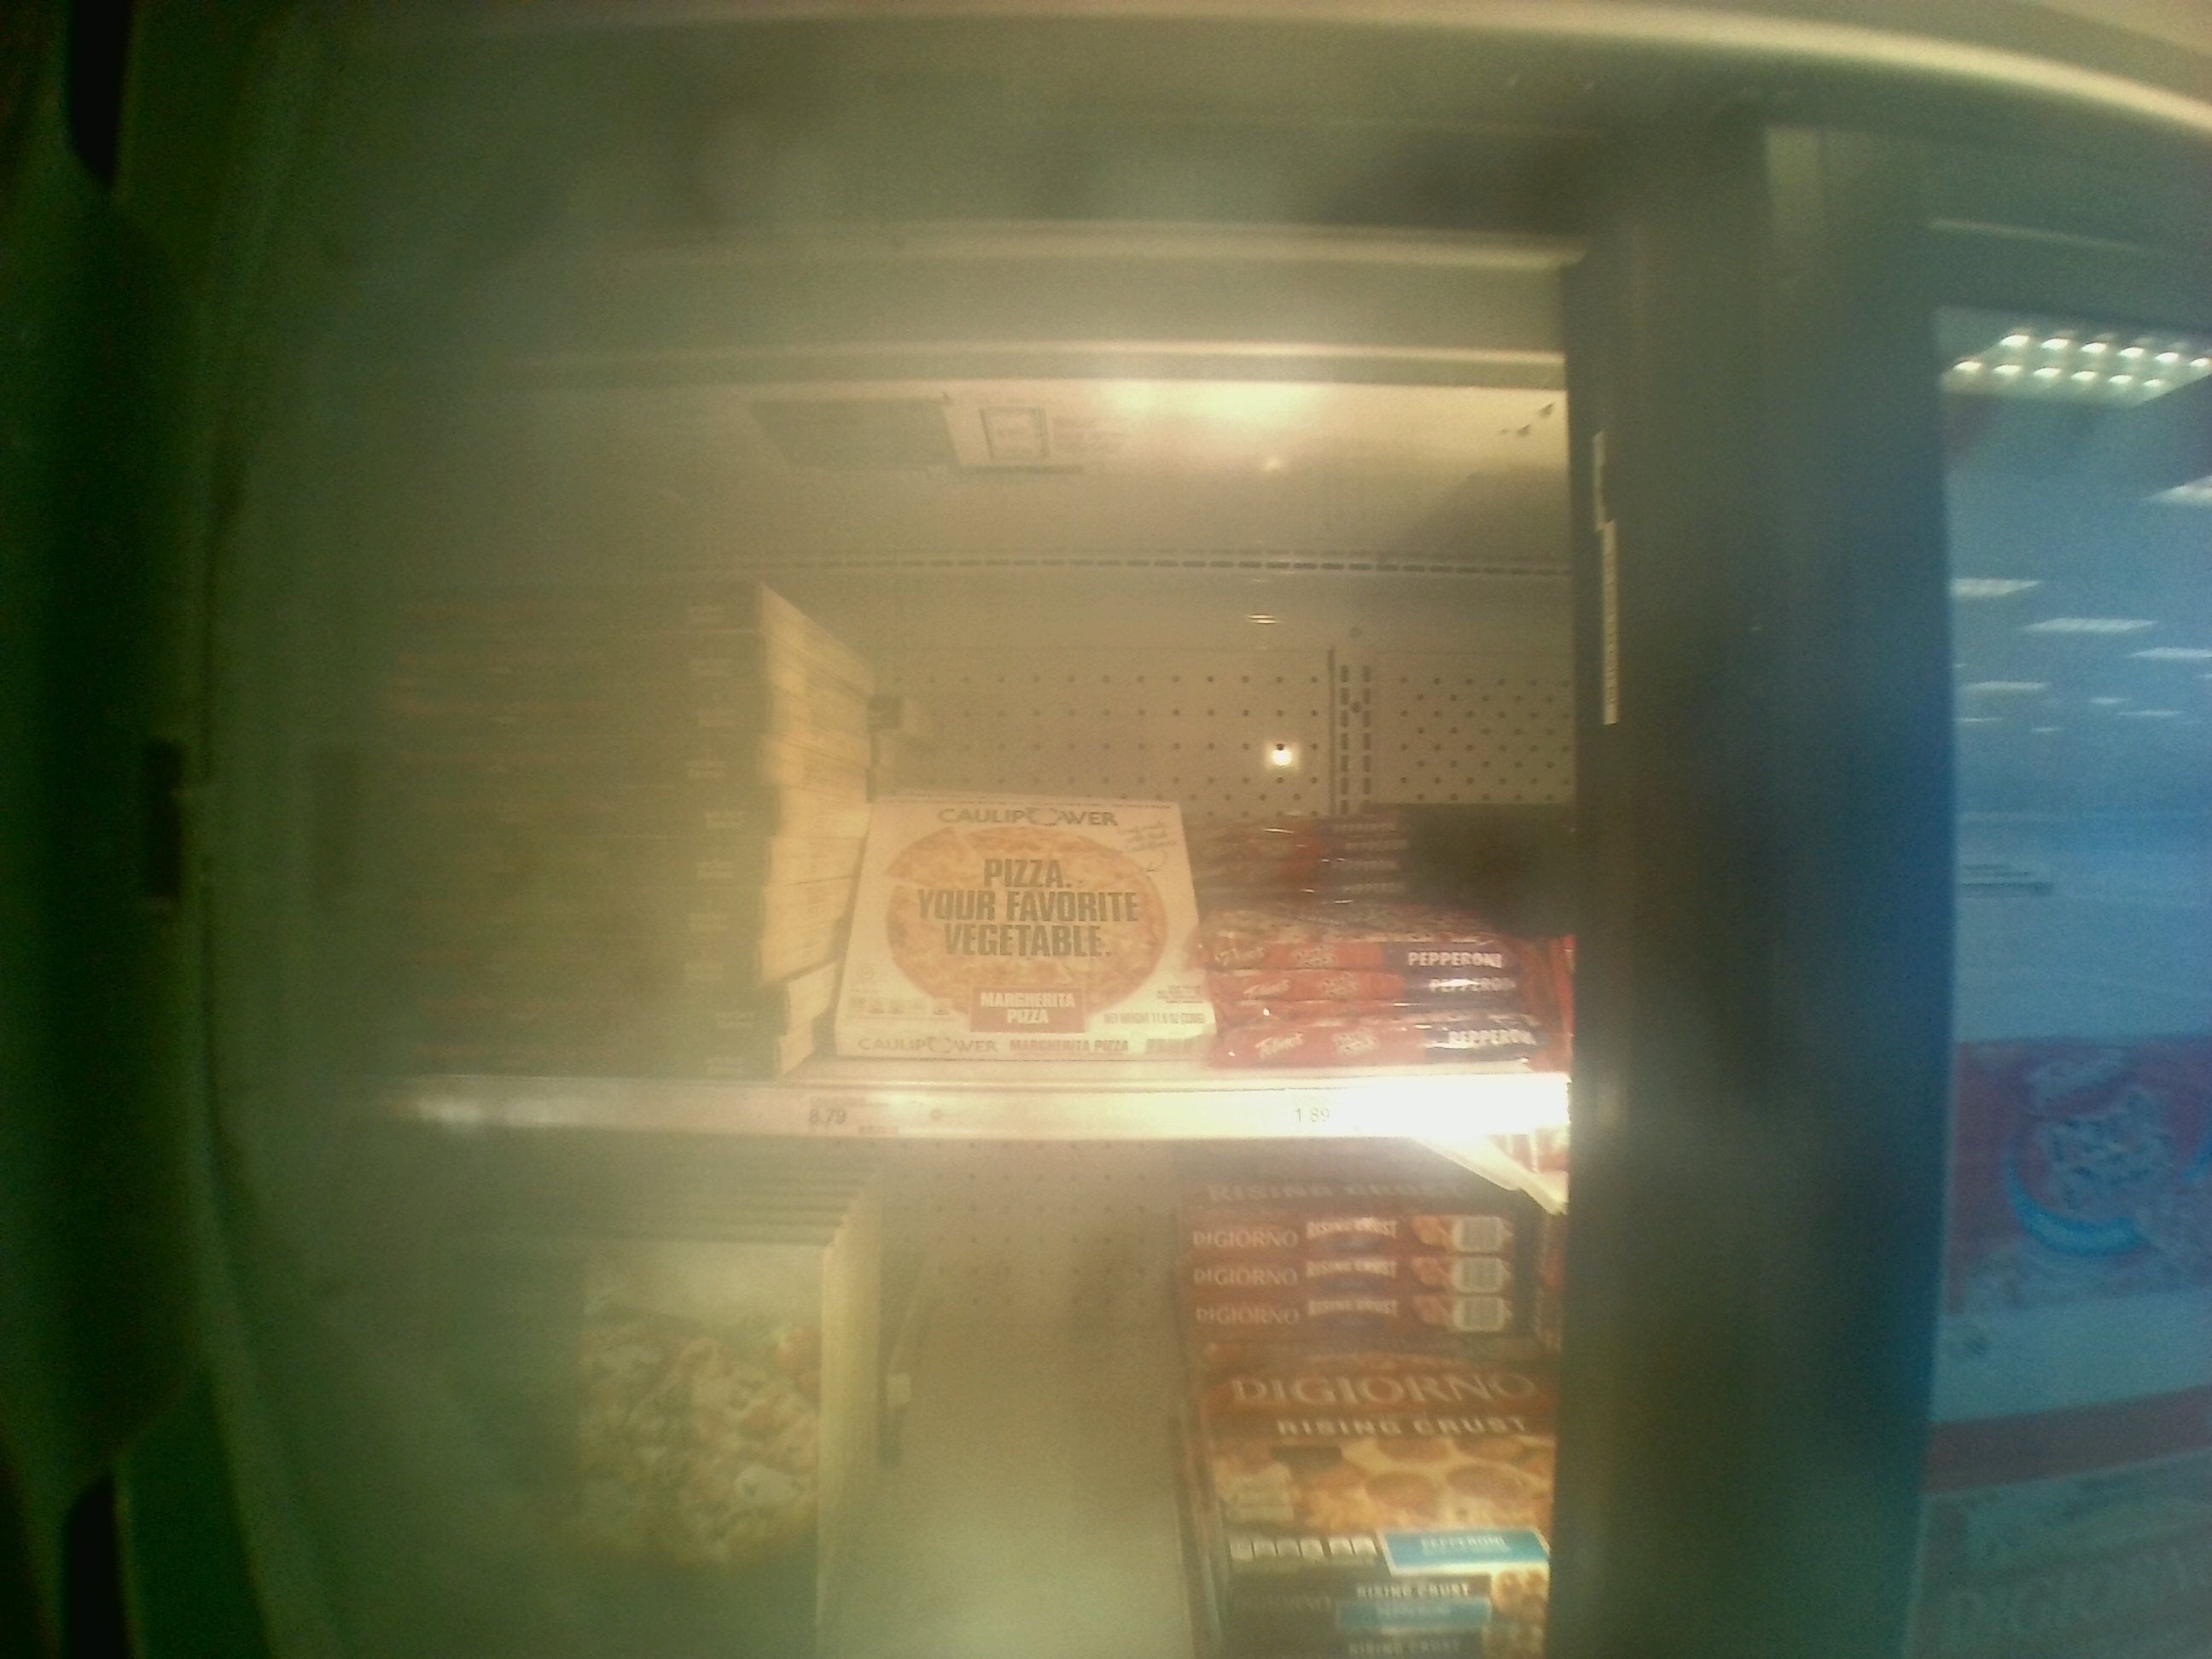shelf: (315, 350, 1566, 1126)
